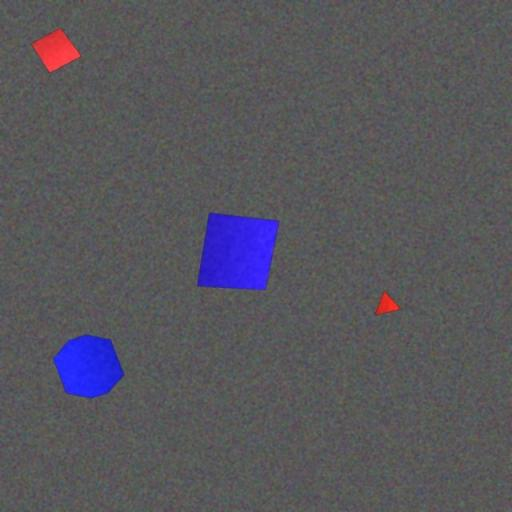BLUE_SQUARE: (196, 212, 280, 291)
RED_SQUARE: (30, 27, 82, 74)
